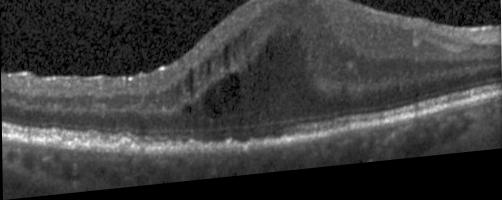intraretinal_cyst: (203, 79, 241, 122), (221, 50, 229, 73), (188, 72, 193, 100), (184, 83, 189, 96), (207, 65, 211, 81), (240, 36, 246, 45), (185, 110, 191, 117), (233, 57, 237, 67), (233, 45, 237, 52), (247, 70, 250, 77), (265, 52, 268, 59), (269, 61, 272, 66)
